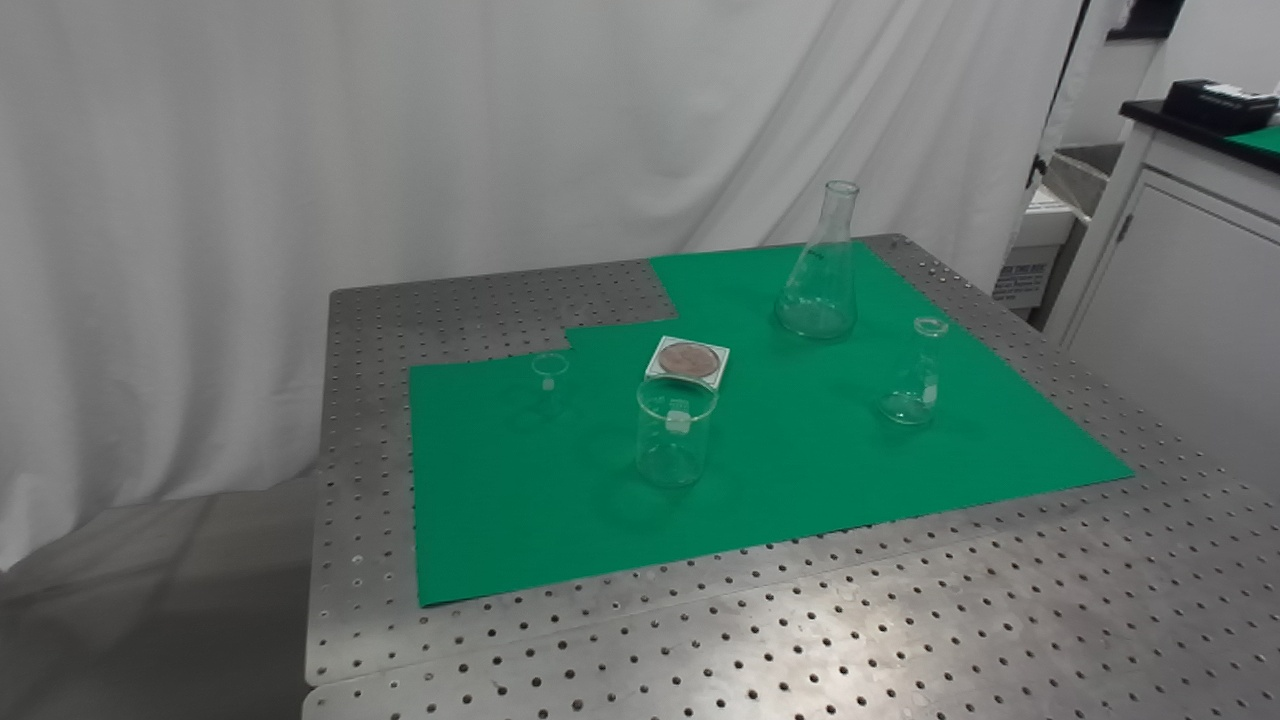glass: (773, 177, 862, 342), (629, 372, 720, 491), (873, 316, 950, 428), (529, 351, 573, 410)
plate: (642, 331, 732, 396)
